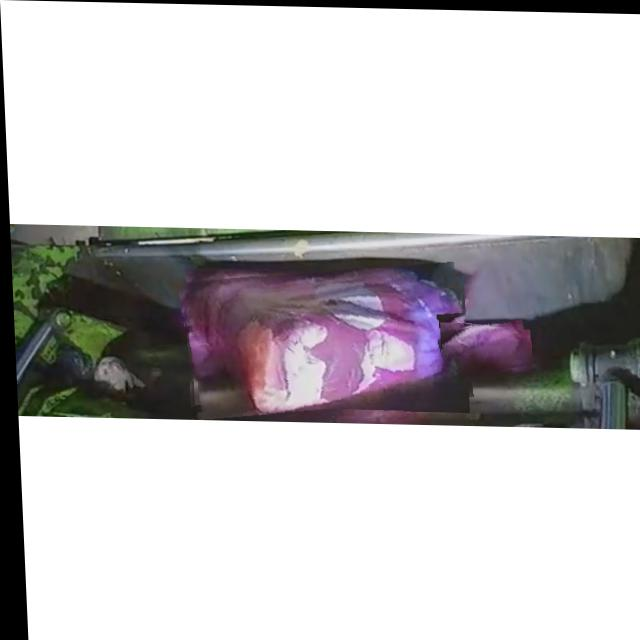other_trashbag: (179, 267, 460, 413), (438, 321, 529, 371)
